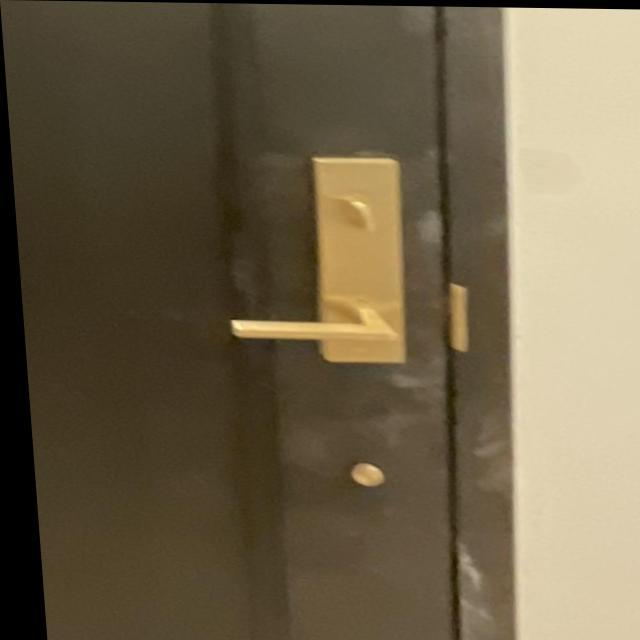door_handle: (213, 288, 426, 358)
